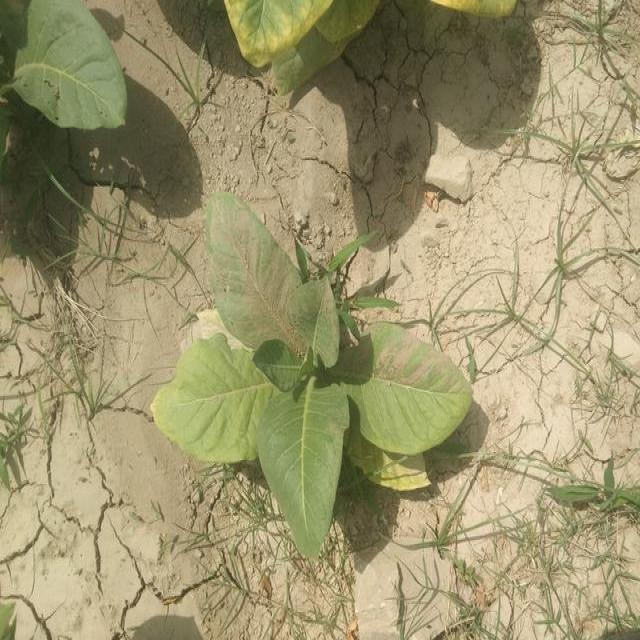crop: (190, 213, 465, 552), (7, 0, 127, 135)
